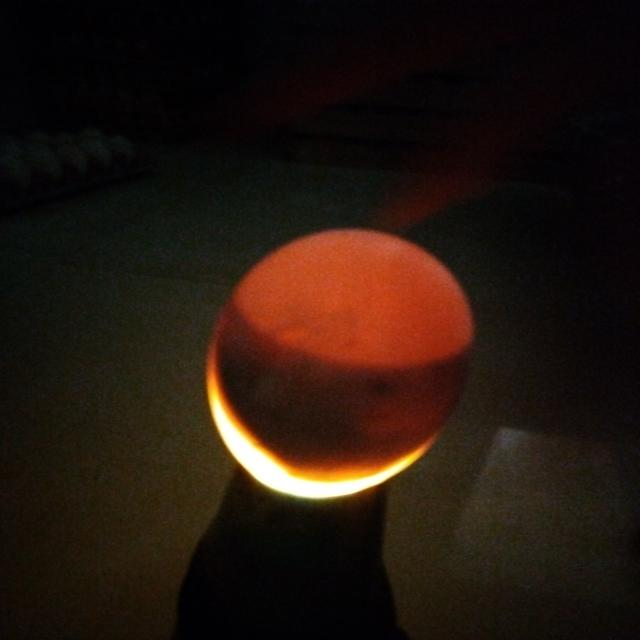Area Infectada: (215, 295, 475, 470)
